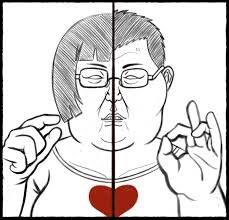ilbe: (153, 97, 227, 200)
megal: (1, 94, 64, 186)
